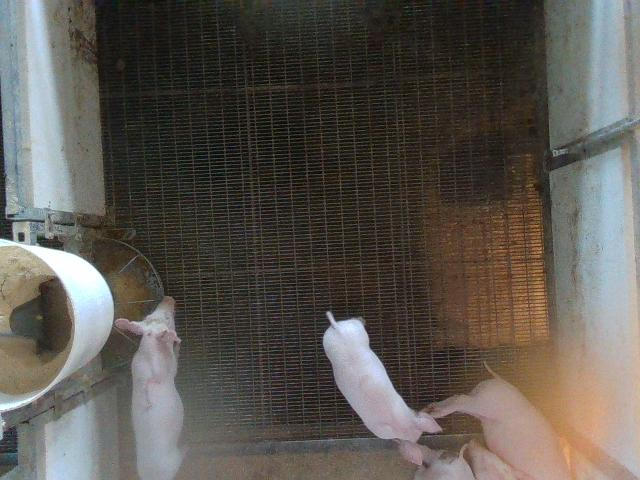pig-5: (115, 296, 184, 479)
